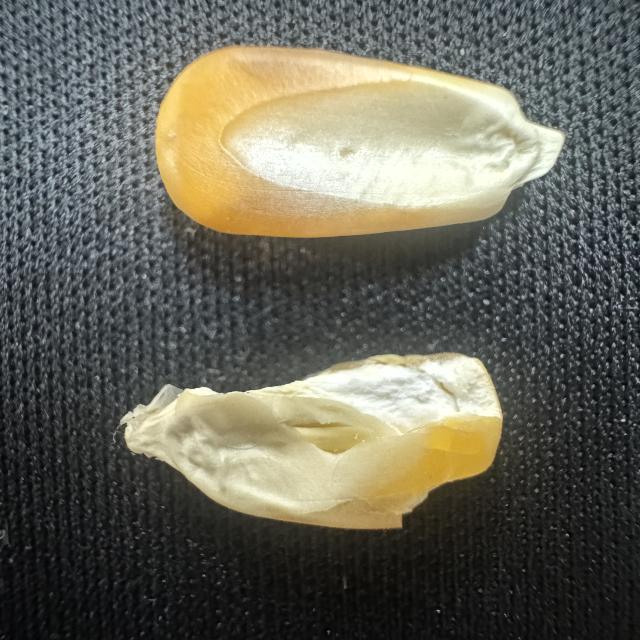Bad-Seed: (111, 340, 514, 537)
Good-Seed: (140, 31, 572, 258)
